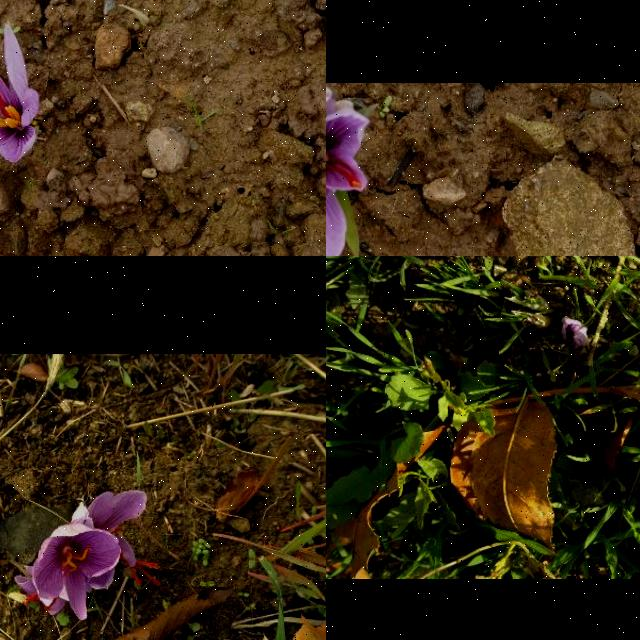flower: (326, 101, 368, 256), (0, 22, 41, 163), (561, 316, 591, 348)
overlap: (15, 488, 161, 620)
